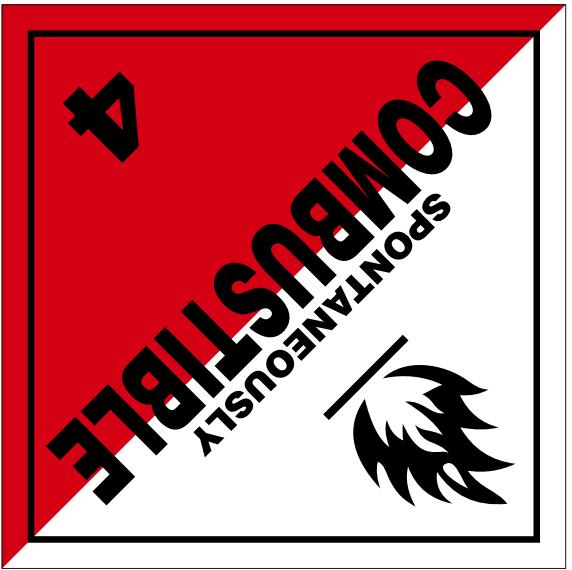spontaneously-combustible: (1, 1, 572, 570)
